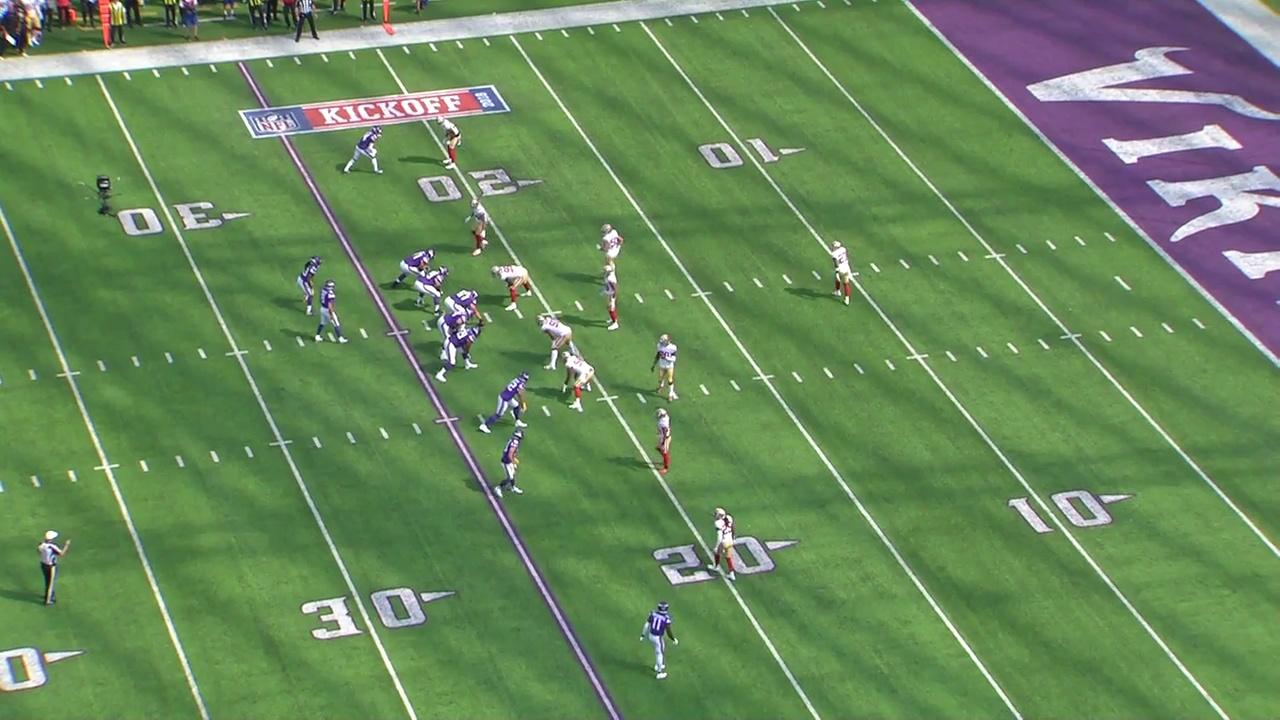player: (475, 369, 533, 435), (637, 599, 680, 681), (433, 324, 486, 386), (492, 429, 528, 500), (706, 506, 739, 582), (535, 313, 578, 371), (313, 279, 350, 346), (342, 124, 387, 176), (558, 351, 595, 410), (436, 306, 475, 361), (490, 263, 533, 312), (413, 264, 451, 317), (391, 247, 438, 289), (650, 333, 678, 403), (294, 255, 323, 317), (829, 239, 853, 308), (594, 221, 624, 274), (444, 287, 484, 326), (464, 197, 490, 257), (652, 407, 674, 475), (435, 115, 462, 170), (600, 264, 621, 332)
ref: (34, 528, 76, 610), (290, 0, 325, 42)
